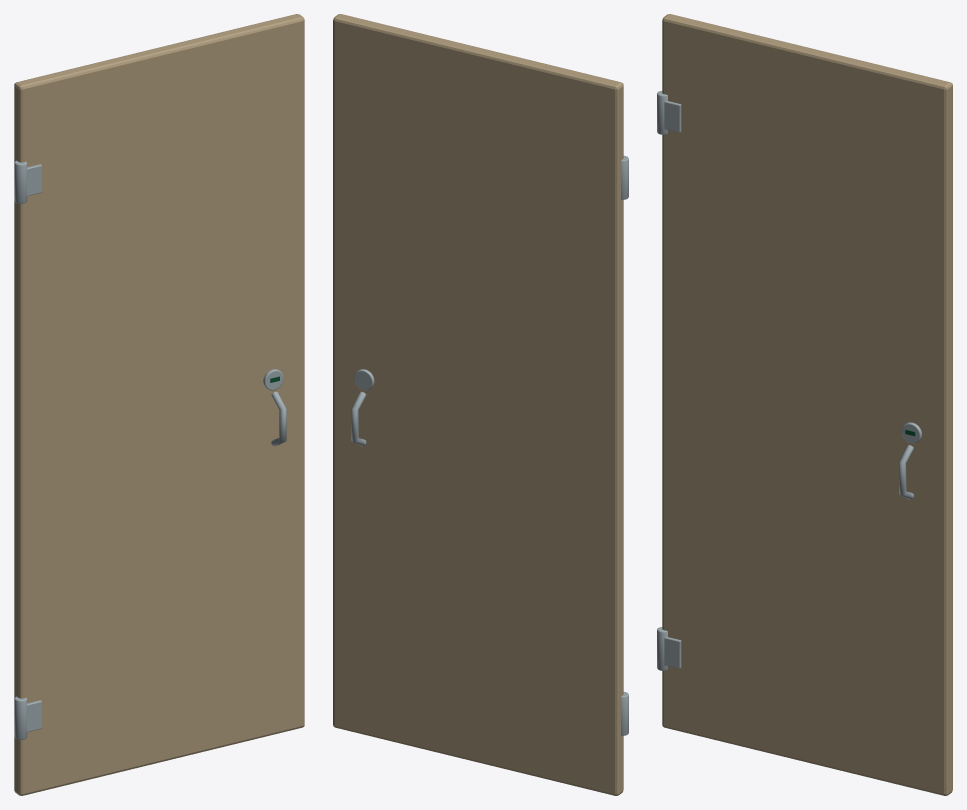
The model's file is OAA_Stall_Door_072.fbx.
3 views of the same model, side by side, from view 1: azimuth 30°, elevation 25°; view 2: azimuth 150°, elevation 25°; view 3: azimuth 330°, elevation 25° (orthographic).
Visible parts, largest first — view 1: StallDoor_HingePivot_Mesh; view 2: StallDoor_HingePivot_Mesh; view 3: StallDoor_HingePivot_Mesh.
Boxes of the visible parts, x1,y1,x2,y2 form: StallDoor_HingePivot_Mesh: (14,14,304,795); StallDoor_HingePivot_Mesh: (333,14,628,795); StallDoor_HingePivot_Mesh: (657,14,952,795).
Bounding box in the file's own units: 0.73 × 1.71 × 0.139.
